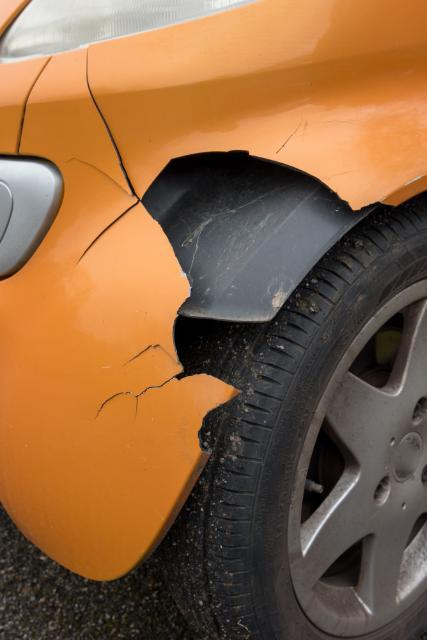crack: (64, 46, 142, 267), (93, 344, 186, 421), (273, 117, 303, 156)
no part: (142, 155, 349, 399)
